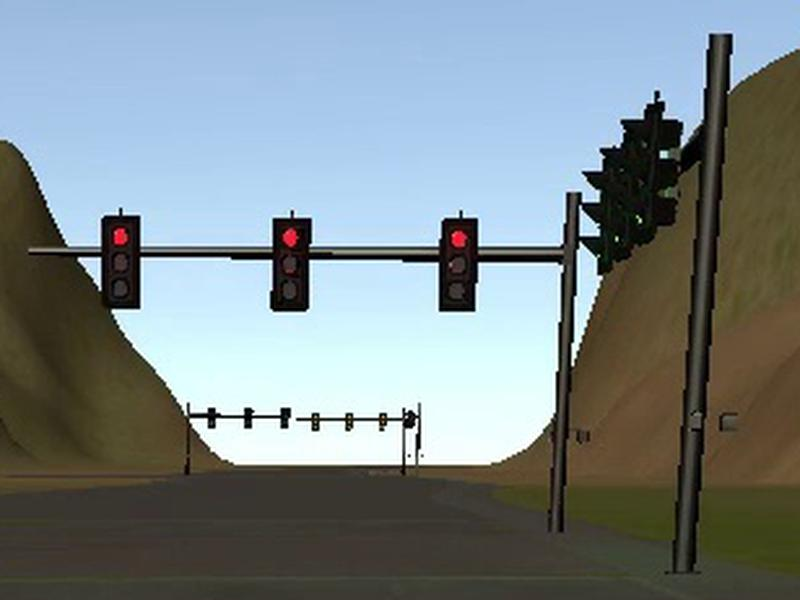Red: (269, 218, 310, 313), (101, 215, 140, 310), (438, 218, 477, 312)
